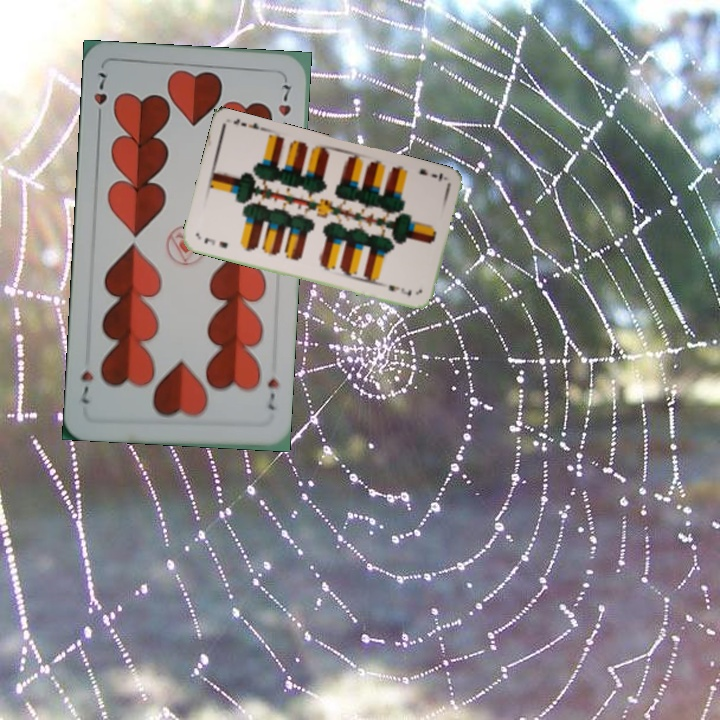E7: (415, 165, 445, 184), (200, 233, 230, 251)
H7: (89, 68, 110, 125), (263, 374, 281, 413)
